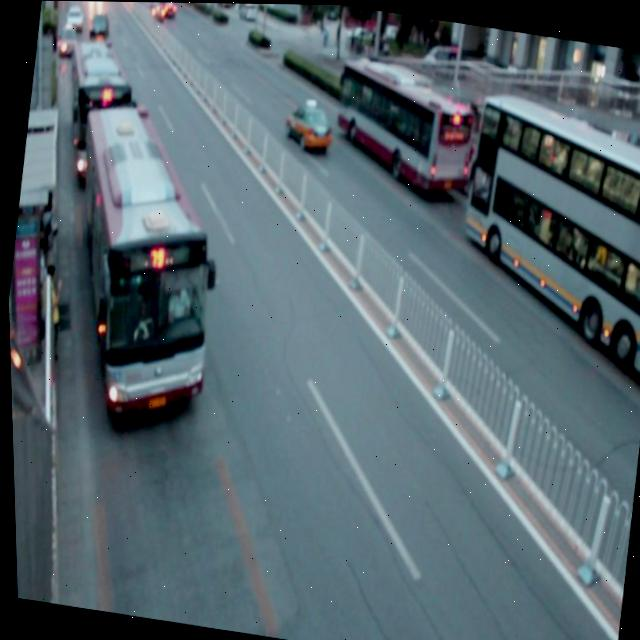car: (282, 99, 334, 154)
van: (444, 92, 640, 391), (47, 106, 235, 411), (327, 58, 479, 198), (54, 37, 142, 183)
